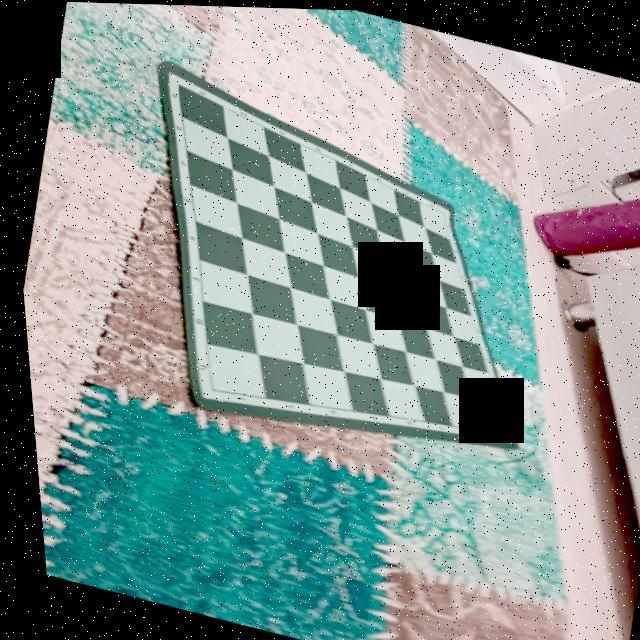chess-table-corners: (480, 418, 510, 442), (192, 376, 222, 400), (425, 199, 452, 222), (163, 72, 190, 94)
